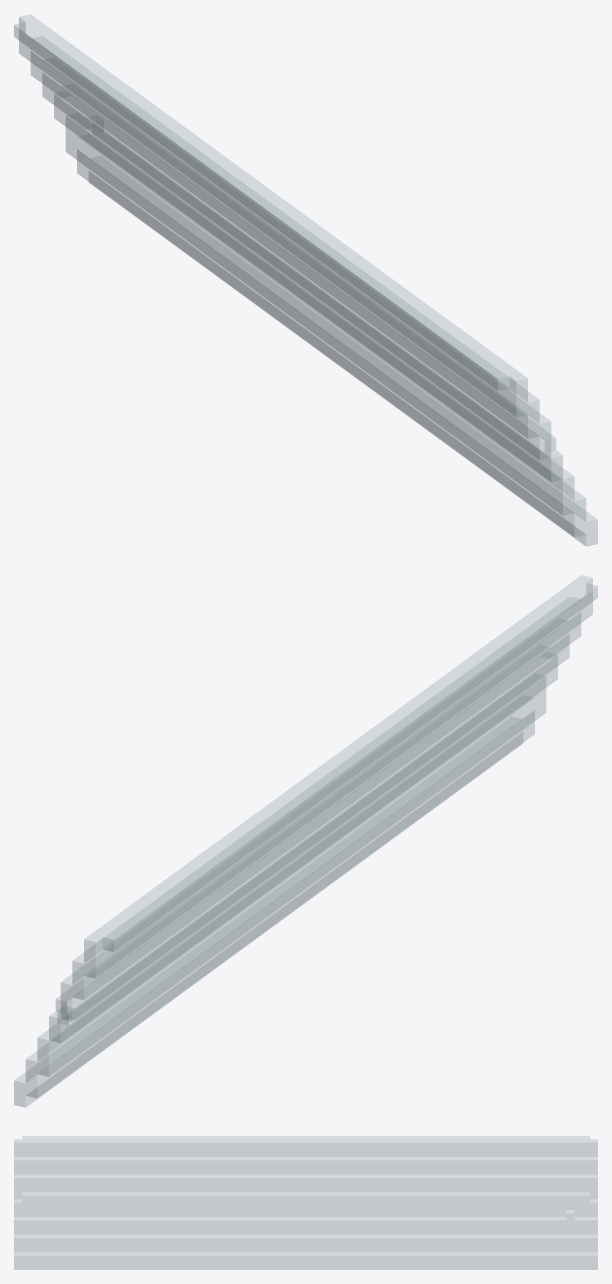
File: car_transporter_windscreen.glb
3 views of the same model, one above another, from view 1: azimuth 30°, elevation 25°; view 2: azimuth 150°, elevation 25°; view 3: azimuth 270°, elevation 25° (orthographic). The views are drawn at different scales.
Visible parts, largest first — view 1: body:compound; view 2: body:compound; view 3: body:compound.
Boxes of the visible parts, x1,y1,x2,y2 form: body:compound: [14, 14, 597, 546]; body:compound: [14, 575, 597, 1107]; body:compound: [14, 1136, 597, 1269].
Size of the model in its own units: 0.25 by 0.4688 by 2.31.
